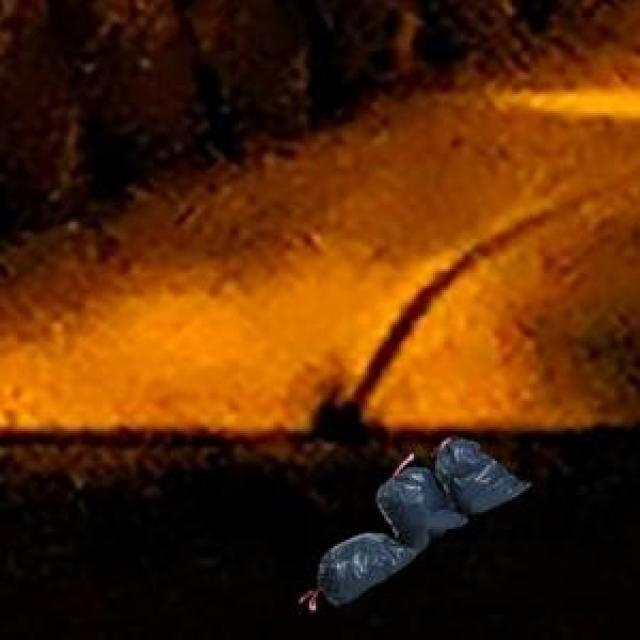miscellaneous trash: (314, 433, 525, 602)
